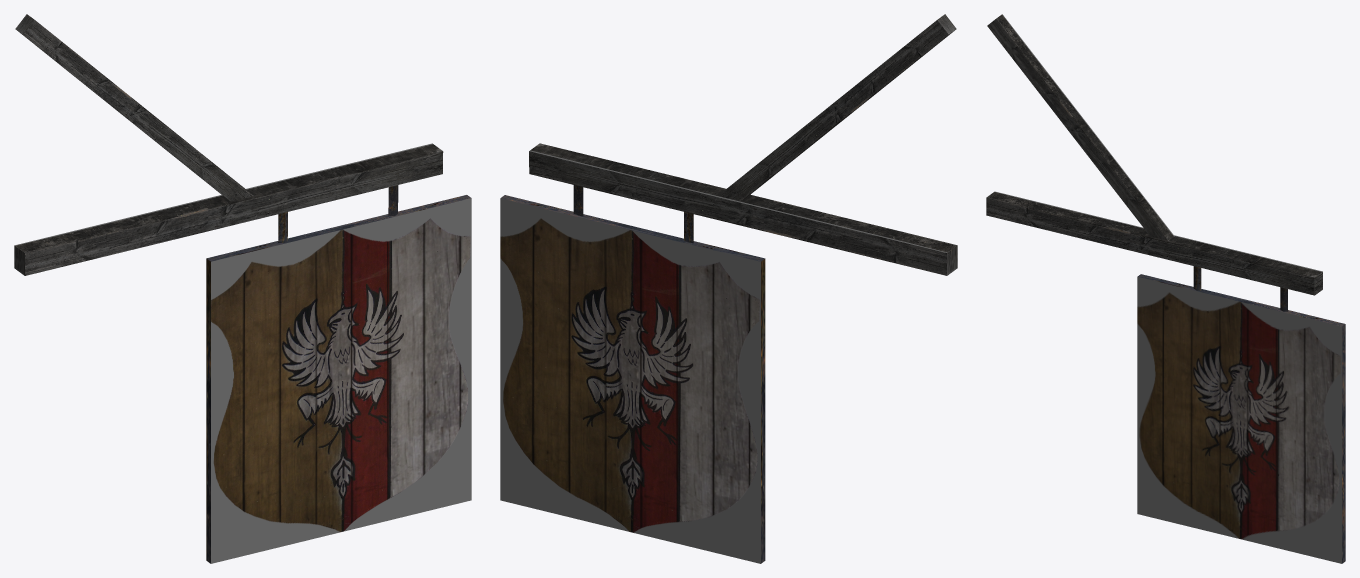
Rendered from emblem03_lod03.fbx.
3 views of the same model, side by side, from view 1: azimuth 30°, elevation 25°; view 2: azimuth 150°, elevation 25°; view 3: azimuth 330°, elevation 25° (orthographic). The views are drawn at different scales.
Parts seen in each view (by area): view 1: Mesh Object; view 2: Mesh Object; view 3: Mesh Object.
Boxes of the visible parts, x1,y1,x2,y2 form: Mesh Object: (14,14,471,563); Mesh Object: (500,14,957,563); Mesh Object: (986,14,1345,563).
Bounding box in the file's own units: 1.53 × 1.91 × 0.0628.
